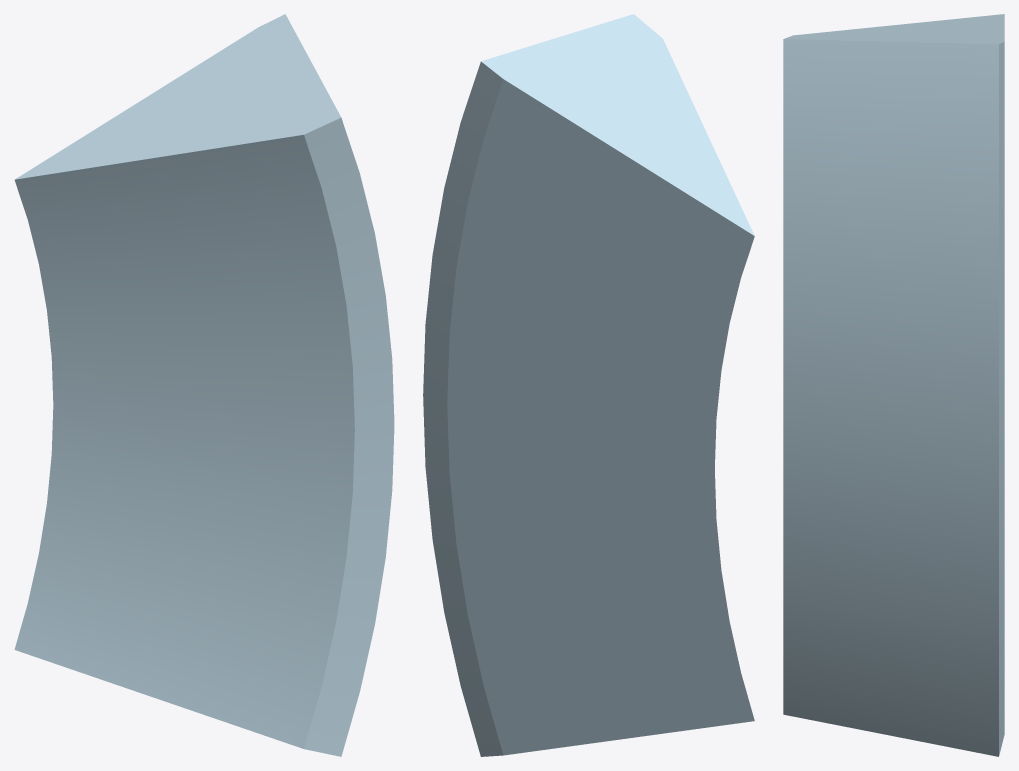
The model's file is Sub_7_Cell_3_2.gltf.
3 views of the same model, side by side, from view 1: azimuth 30°, elevation 25°; view 2: azimuth 150°, elevation 25°; view 3: azimuth 270°, elevation 25° (orthographic). The views are drawn at different scales.
Parts seen in each view (by area): view 1: Sub_7_Cell_3_2; view 2: Sub_7_Cell_3_2; view 3: Sub_7_Cell_3_2.
Boxes of the visible parts, bbox=[...] form: Sub_7_Cell_3_2: bbox=[14, 14, 394, 756]; Sub_7_Cell_3_2: bbox=[423, 14, 754, 756]; Sub_7_Cell_3_2: bbox=[783, 14, 1004, 756].
Bounding box in the file's own units: 0.0646 × 0.1284 × 0.0362.
